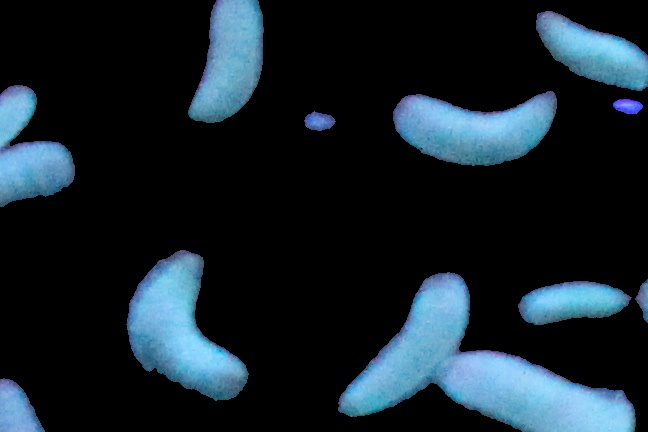larvae: (338, 263, 469, 414), (129, 249, 245, 401), (439, 348, 634, 432), (391, 93, 558, 167), (188, 1, 269, 125), (533, 8, 648, 91), (521, 276, 631, 327), (1, 144, 75, 210), (1, 77, 33, 164), (248, 1, 326, 3)
